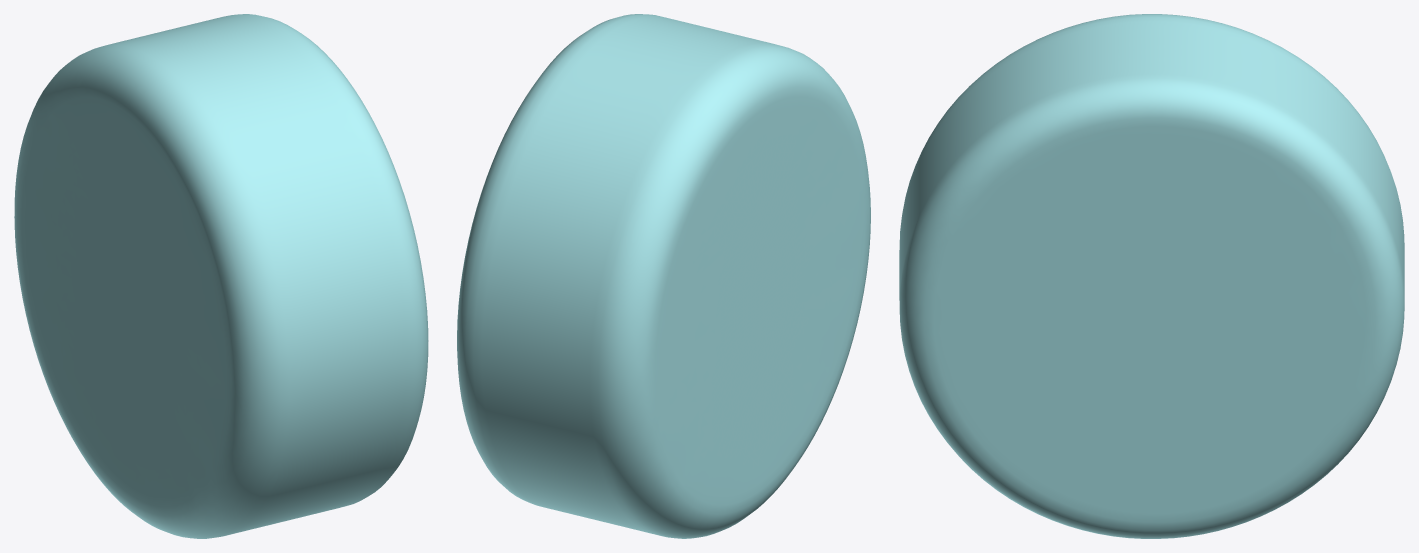
Rendered from Round_Pill_Individual_Blue.glb.
3 renders of one model, left to right at view 1: azimuth 30°, elevation 25°; view 2: azimuth 150°, elevation 25°; view 3: azimuth 270°, elevation 25°, orthographic.
Parts seen in each view (by area): view 1: Round_Pill.010; view 2: Round_Pill.010; view 3: Round_Pill.010.
Boxes of the visible parts, x1,y1,x2,y2 form: Round_Pill.010: (14,14,428,538); Round_Pill.010: (457,14,870,538); Round_Pill.010: (899,14,1404,538).
Size of the model in its own units: 0.5814 by 1.35 by 1.35.
Materials: 1 (1 with a texture image).
